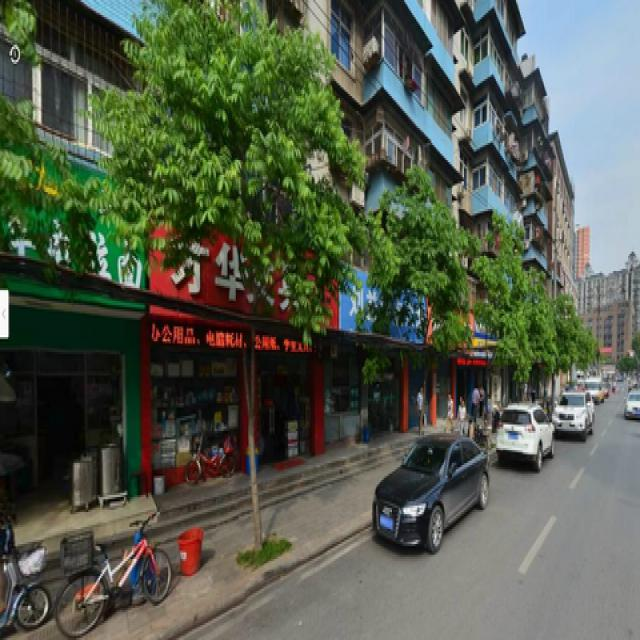koel: (121, 6, 359, 555)
